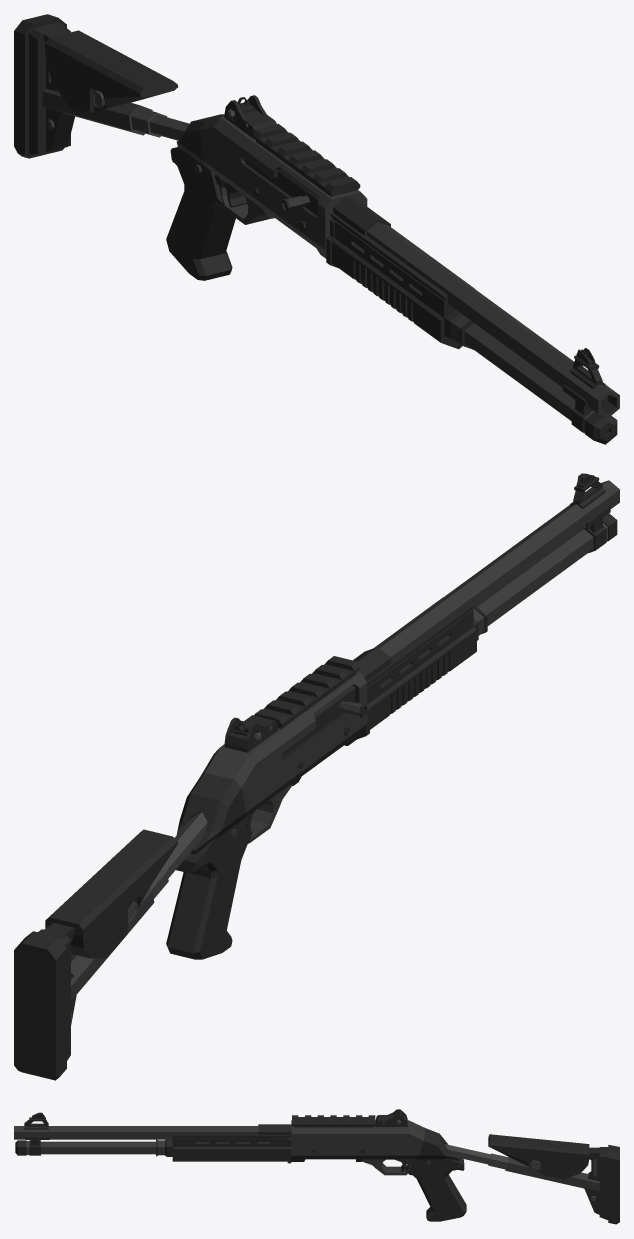
The model's file is ShotGun_C.fbx.
3 views of the same model, one above another, from view 1: azimuth 30°, elevation 25°; view 2: azimuth 150°, elevation 25°; view 3: azimuth 270°, elevation 25° (orthographic). The views are drawn at different scales.
Visible parts, largest first — view 1: ShotGun_C_Stock_Part, ShotGun_C_Barrel, ShotGun_C_Receiver, ShotGun_C_BarrelGuard, ShotGun_C_Grip, ShotGun_C_Mag, ShotGun_C_Rail, ShotGun_C_Sight_Back, ShotGun_C_Sight_Forward, ShotGun_C_Stock; view 2: ShotGun_C_Stock_Part, ShotGun_C_Receiver, ShotGun_C_Barrel, ShotGun_C_Grip, ShotGun_C_BarrelGuard, ShotGun_C_Mag, ShotGun_C_Stock, ShotGun_C_Rail, ShotGun_C_Sight_Back; view 3: ShotGun_C_Stock_Part, ShotGun_C_Receiver, ShotGun_C_Barrel, ShotGun_C_BarrelGuard, ShotGun_C_Grip, ShotGun_C_Mag, ShotGun_C_Rail, ShotGun_C_Stock, ShotGun_C_Sight_Back, ShotGun_C_Sight_Forward.
Part boxes in pixels (left/top/right/bottom): ShotGun_C_Stock_Part: left=14, top=14, right=189, bottom=158; ShotGun_C_Barrel: left=333, top=196, right=619, bottom=433; ShotGun_C_Receiver: left=200, top=116, right=367, bottom=258; ShotGun_C_BarrelGuard: left=326, top=213, right=474, bottom=349; ShotGun_C_Grip: left=166, top=147, right=235, bottom=280; ShotGun_C_Mag: left=444, top=309, right=617, bottom=444; ShotGun_C_Rail: left=252, top=123, right=360, bottom=196; ShotGun_C_Sight_Back: left=224, top=95, right=276, bottom=139; ShotGun_C_Sight_Forward: left=570, top=348, right=605, bottom=389; ShotGun_C_Stock: left=176, top=114, right=224, bottom=169; ShotGun_C_Stock_Part: left=14, top=812, right=207, bottom=1080; ShotGun_C_Receiver: left=200, top=672, right=367, bottom=843; ShotGun_C_Barrel: left=353, top=480, right=619, bottom=681; ShotGun_C_Grip: left=166, top=819, right=250, bottom=959; ShotGun_C_BarrelGuard: left=357, top=597, right=476, bottom=739; ShotGun_C_Mag: left=473, top=513, right=617, bottom=640; ShotGun_C_Stock: left=176, top=772, right=245, bottom=854; ShotGun_C_Rail: left=254, top=656, right=360, bottom=728; ShotGun_C_Sight_Back: left=224, top=715, right=277, bottom=752; ShotGun_C_Stock_Part: left=445, top=1134, right=619, bottom=1224; ShotGun_C_Receiver: left=291, top=1120, right=424, bottom=1175; ShotGun_C_Barrel: left=14, top=1124, right=291, bottom=1155; ShotGun_C_BarrelGuard: left=172, top=1134, right=291, bottom=1163; ShotGun_C_Grip: left=408, top=1158, right=466, bottom=1221; ShotGun_C_Mag: left=15, top=1139, right=172, bottom=1156; ShotGun_C_Rail: left=292, top=1115, right=375, bottom=1127; ShotGun_C_Stock: left=418, top=1128, right=459, bottom=1161; ShotGun_C_Sight_Back: left=375, top=1109, right=407, bottom=1126; ShotGun_C_Sight_Forward: left=24, top=1112, right=48, bottom=1129.
Bounding box in the file's own units: 0.075 × 0.2325 × 1.18.
